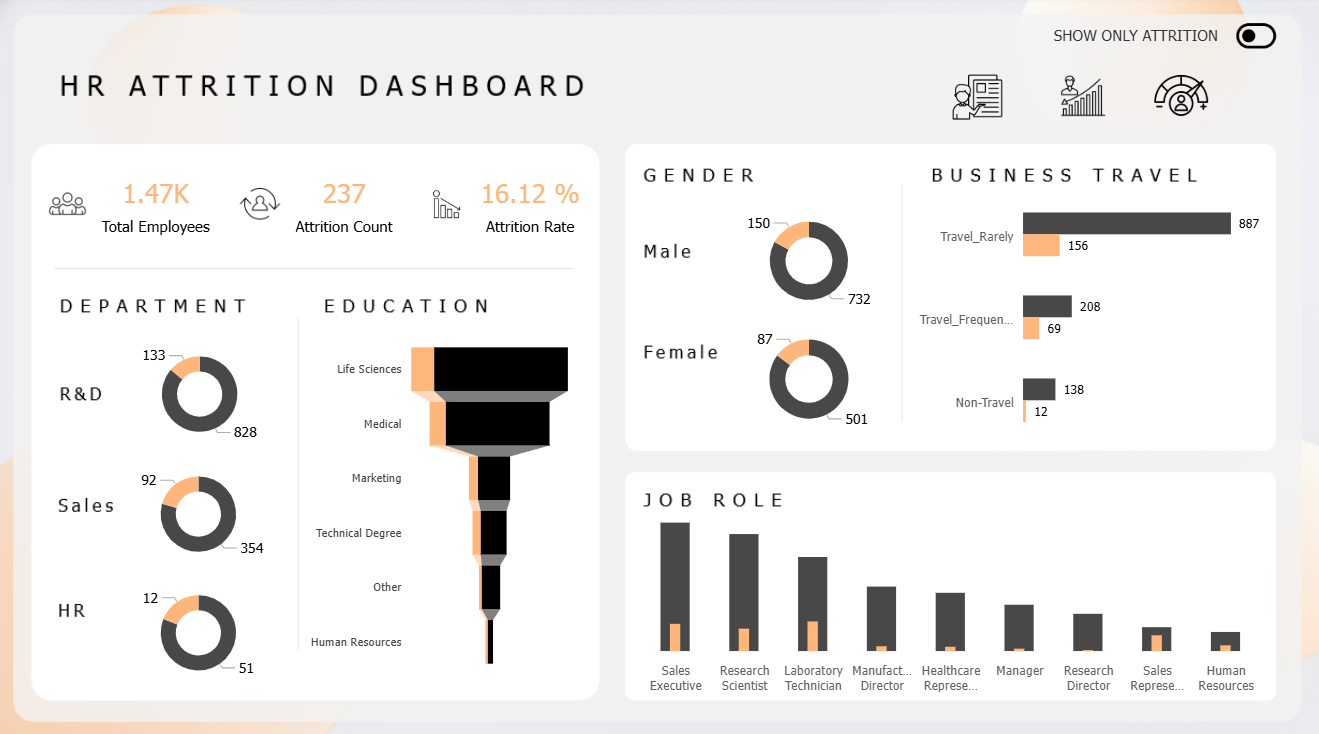

This screenshot's page, from the dashboard's own definition file:
{"tool":"powerbi","page":{"name":"Employee Overview","canvas":[1280,720],"ordinal":0},"visuals":[{"type":"cardVisual","title":"Employee Count","fields":{"Data":["All Measure.Total Employees"]},"box":[32.6,144.8,164.1,111],"z":0},{"type":"donutChart","title":"Human Resources","fields":{"Y":["Count(Data.EmployeeNumber)"],"Category":["Data.Attrition Status"]},"box":[129.1,323.3,135.1,114.6],"z":1000},{"type":"donutChart","title":"Research & Development","fields":{"Y":["CountNonNull(Data.EmployeeNumber)"],"Category":["Data.Attrition Status"]},"box":[129.1,437.9,135.1,114.6],"z":2000},{"type":"donutChart","title":"Sales","fields":{"Y":["CountNonNull(Data.EmployeeNumber)"],"Category":["Data.Attrition Status"]},"box":[129.1,552.5,135.1,114.6],"z":3000},{"type":"donutChart","title":"Female","fields":{"Category":["Data.Attrition Status"],"Y":["CountNonNull(Data.Gender)"]},"box":[710.6,197.9,154.4,114.6],"z":4000},{"type":"donutChart","title":"Male","fields":{"Category":["Data.Attrition Status"],"Y":["CountNonNull(Data.Gender)"]},"box":[710.6,312.5,154.4,113.4],"z":5000},{"type":"clusteredBarChart","title":"Education vs Attrition","fields":{"Y":["CountNonNull(Data.Attrition Status)"],"Category":["Data.EducationField"],"Series":["Data.Attrition Status"]},"box":[298,302.8,277.5,381.2],"z":6000},{"type":"clusteredBarChart","title":"Business Travel vs Attrition","fields":{"Category":["Data.BusinessTravel"],"Series":["Data.Attrition Status"],"Y":["CountNonNull(Data.EmployeeNumber)"]},"box":[873.5,152,351.1,301.6],"z":7000},{"type":"columnChart","title":"Job Role-wise Retention and Attrition","fields":{"Category":["Data.JobRole"],"Y":["CountNonNull(Data.EmployeeNumber)"],"Series":["Data.Attrition Status"]},"box":[587.5,469.3,657.5,207.5],"z":8000}]}

Visuals, with their boxes in screenshot pixels (x1, y1, x2, y2), scaled from the page's 1280x720 canvas onto the 1319x734 screenshot:
"Employee Count" cardVisual: crop(34, 148, 203, 261)
"Human Resources" donutChart: crop(133, 330, 272, 446)
"Research & Development" donutChart: crop(133, 446, 272, 563)
"Sales" donutChart: crop(133, 563, 272, 680)
"Female" donutChart: crop(732, 202, 891, 319)
"Male" donutChart: crop(732, 319, 891, 434)
"Education vs Attrition" clusteredBarChart: crop(307, 309, 593, 697)
"Business Travel vs Attrition" clusteredBarChart: crop(900, 155, 1262, 462)
"Job Role-wise Retention and Attrition" columnChart: crop(605, 478, 1283, 690)
